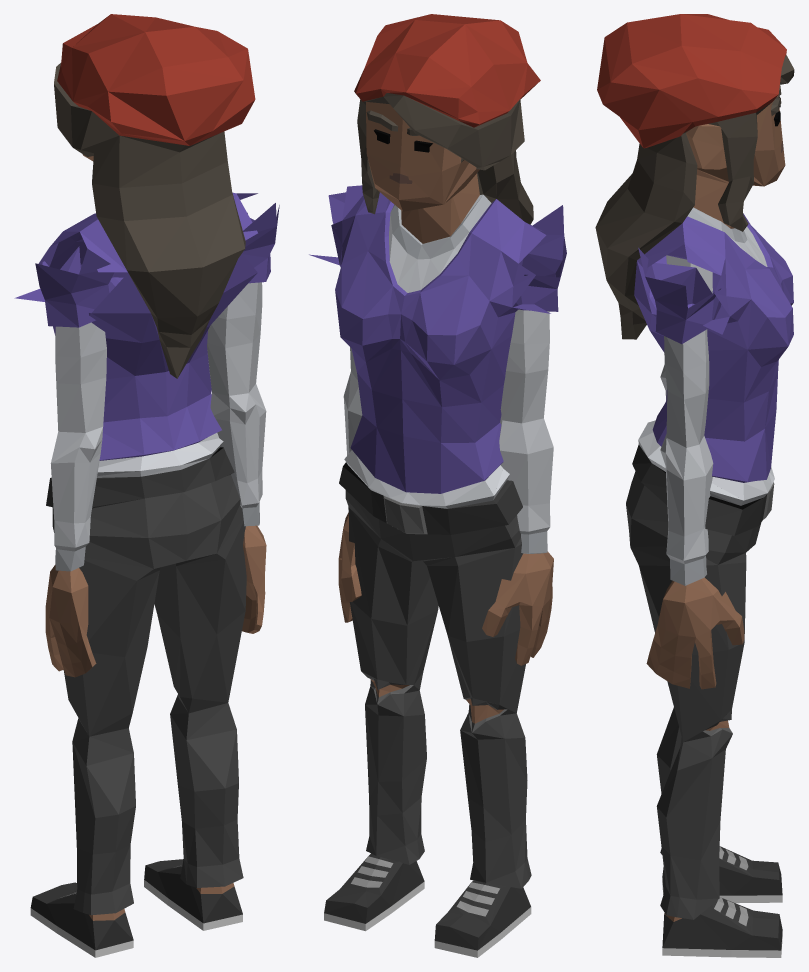
The model's file is Body_guitar.obj.
The picture shows the model from 3 angles, left to right: view 1: azimuth 30°, elevation 25°; view 2: azimuth 150°, elevation 25°; view 3: azimuth 270°, elevation 25°; orthographic projection. The views are drawn at different scales.
Visible parts, largest first — view 1: Body_guitar; view 2: Body_guitar; view 3: Body_guitar.
Boxes of the visible parts, <box> form: Body_guitar: <box>14,14,279,957</box>; Body_guitar: <box>309,14,566,957</box>; Body_guitar: <box>595,14,794,957</box>.
Size of the model in its own units: 0.5319 by 1.84 by 0.3698.
1 material, 1 textured.
